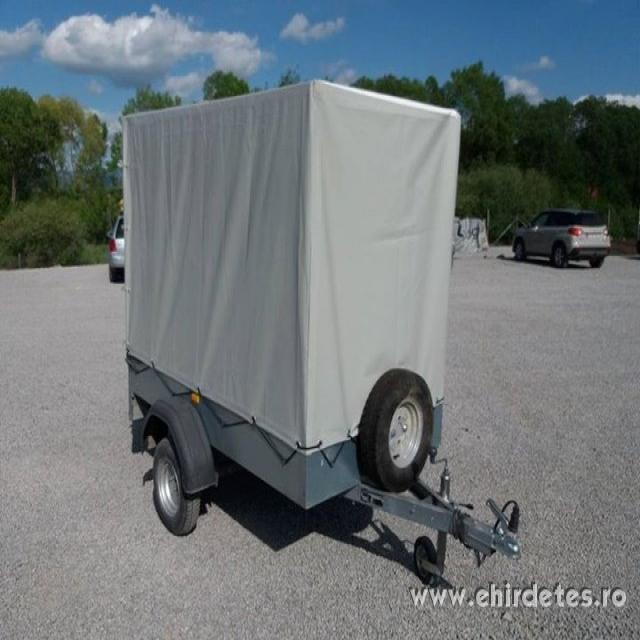trailer: (120, 79, 462, 512)
